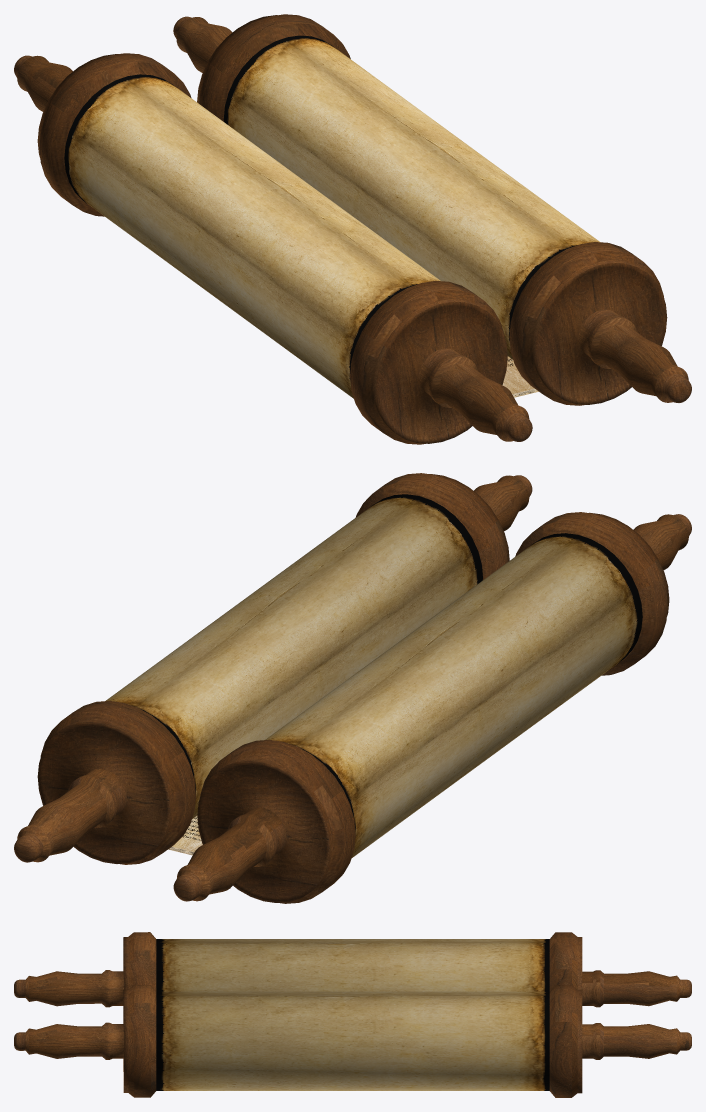
Rendered from bh_toralocaCerrada.fbx.
The picture shows the model from 3 angles, top to bottom: view 1: azimuth 30°, elevation 25°; view 2: azimuth 150°, elevation 25°; view 3: azimuth 270°, elevation 25°; orthographic projection. The views are drawn at different scales.
Parts seen in each view (by area): view 1: Cylinder.001, Cylinder, Cube; view 2: Cylinder.001, Cylinder; view 3: Cylinder, Cylinder.001.
Boxes of the visible parts, box(x1,y1,x2,y2) form: Cylinder.001: box(14, 53, 532, 444); Cylinder: box(173, 14, 691, 405); Cube: box(502, 356, 538, 397); Cylinder.001: box(173, 512, 691, 903); Cylinder: box(14, 473, 532, 864); Cylinder: box(14, 985, 691, 1097); Cylinder.001: box(14, 932, 691, 1007).
Bounding box in the file's own units: 479 × 227 × 1364.
